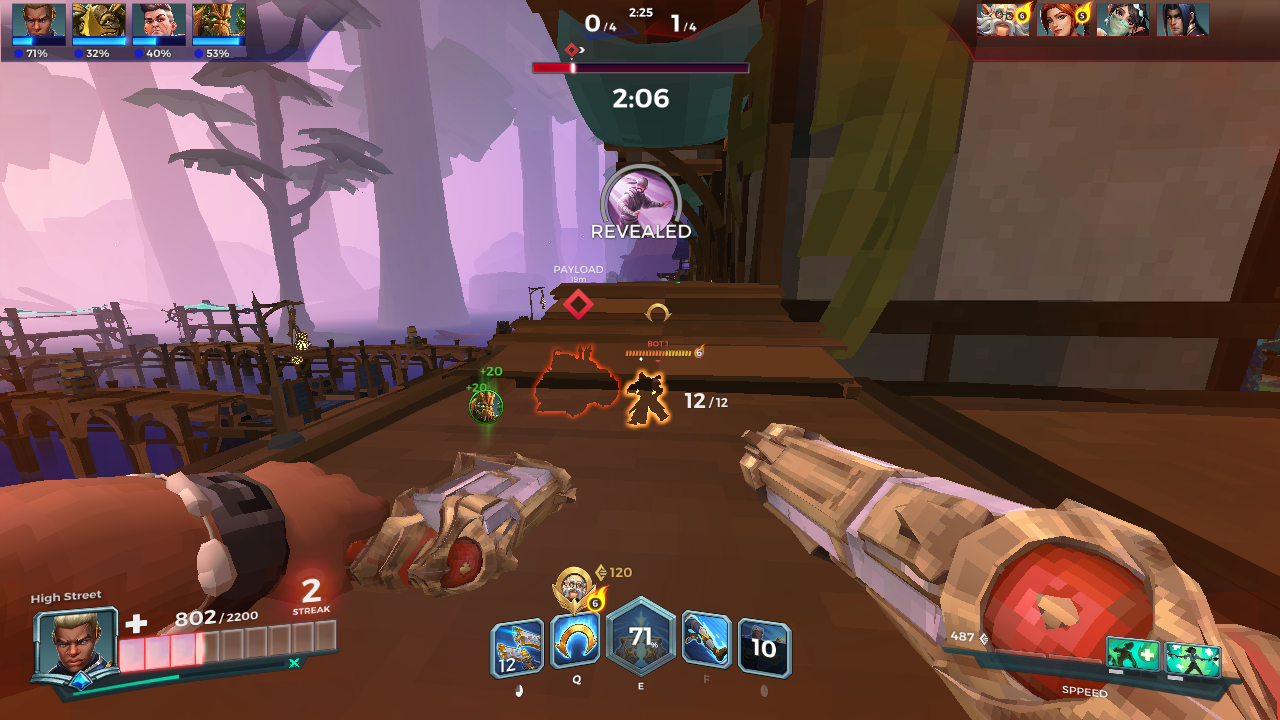model: (626, 366, 668, 427)
